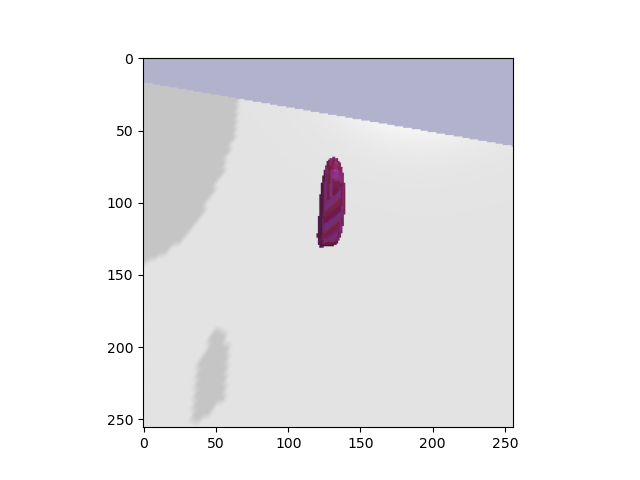v249b387_105: (312, 157, 356, 253)
